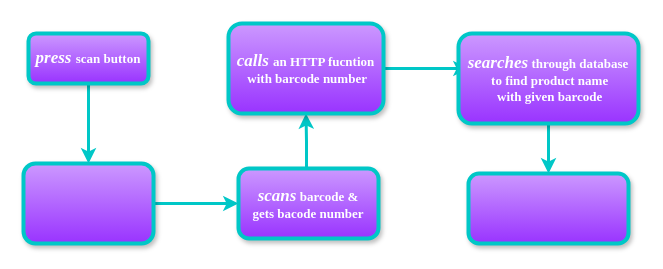
Image size: 663x269. Some labels were removed from this diagram. Each missing label, with the centre of its shape:
adds product to the inventory azure table: point 549,209
opens barcode scanner: point 89,204
